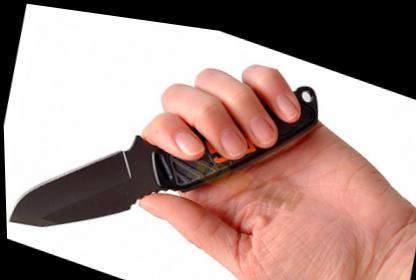knife: (0, 0, 337, 277)
